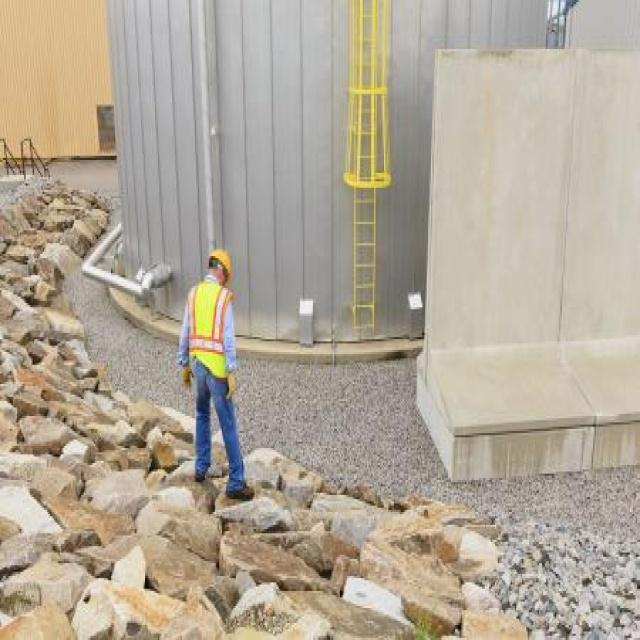helmet: (204, 326, 233, 394)
vest: (179, 376, 247, 517)
